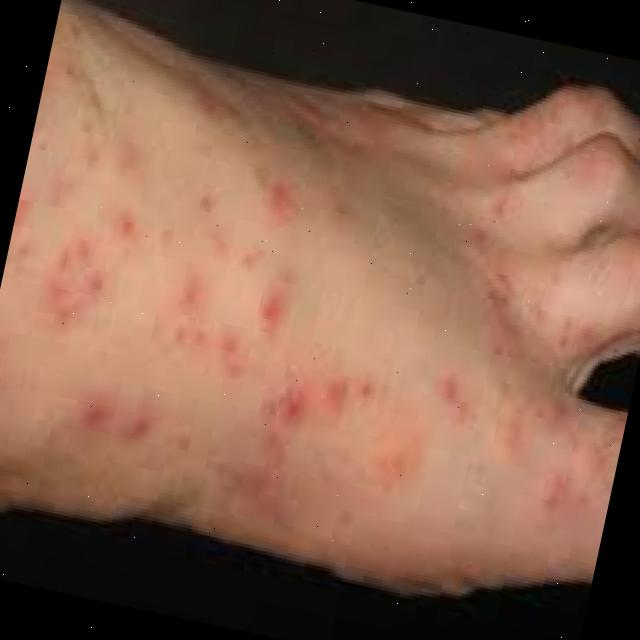tahta-kurusu: (26, 121, 503, 470)
